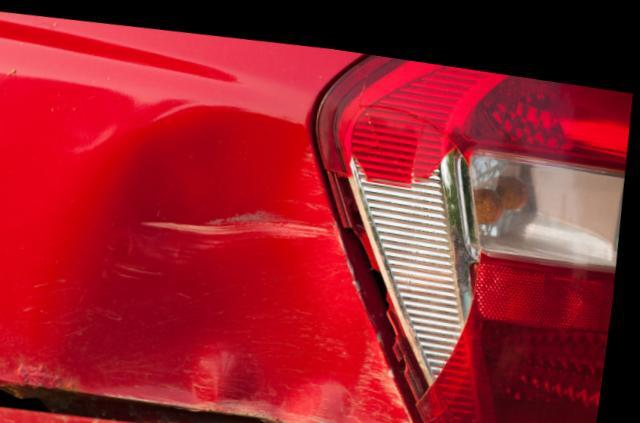dent: (65, 92, 429, 423)
lamp broken: (307, 43, 633, 423)
